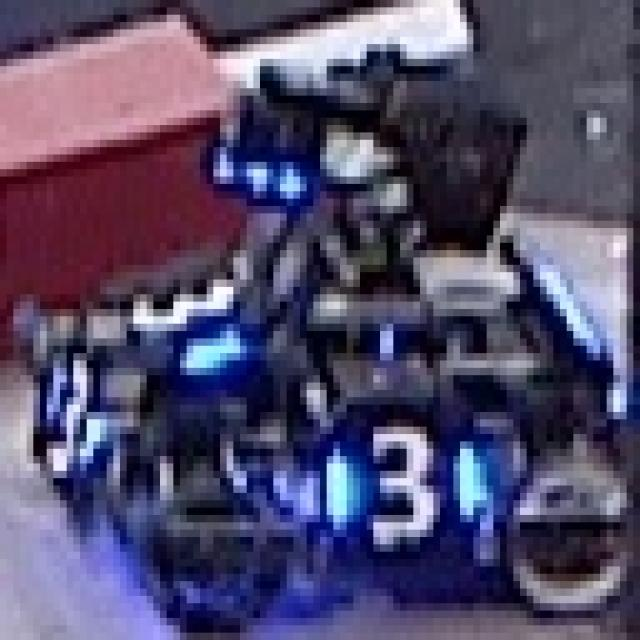B3: (314, 420, 494, 544), (126, 242, 246, 382), (27, 338, 100, 493)
